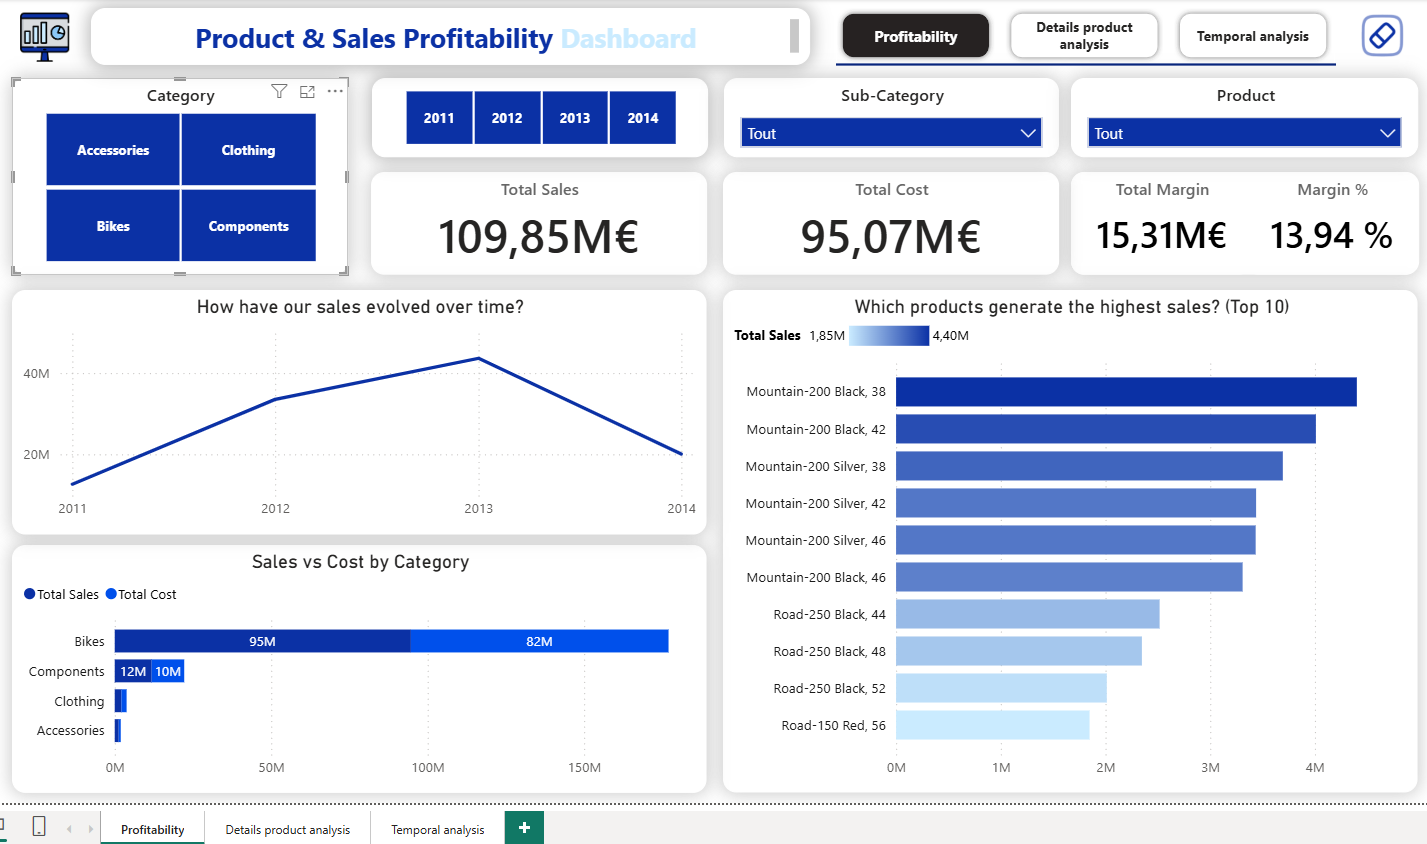

This screenshot's page, from the dashboard's own definition file:
{"tool":"powerbi","page":{"name":"Profitability","canvas":[1280,720],"ordinal":0},"visuals":[{"type":"shape","box":[959,154.7,311.2,92.4],"z":0},{"type":"card","title":"Total Sales","fields":{"Values":["ProductProfitability.Total Sales"]},"box":[332.6,154.7,300.5,92.4],"z":1000},{"type":"card","title":"Total Margin","fields":{"Values":["ProductProfitability.Total Margin"]},"box":[959.3,154.8,162.2,92.3],"z":2000},{"type":"card","title":"Margin %","fields":{"Values":["ProductProfitability.Margin %"]},"box":[1114.7,154.7,155.6,92.4],"z":3000},{"type":"slicer","title":"Category","fields":{"Values":["ProductProfitability.Category"]},"box":[10.7,71,300.5,176],"z":4000},{"type":"slicer","fields":{"Values":["ProductProfitability.OrderDate.Variation.Hiérarchie de dates.Année"]},"box":[332.8,70.9,301.1,70.9],"z":5000},{"type":"card","title":"Total Cost","fields":{"Values":["ProductProfitability.Total Cost"]},"box":[647.8,154.7,300.5,92.4],"z":6000},{"type":"barChart","title":"Which products generate the highest sales? (Top 10)","fields":{"Category":["ProductProfitability.ProductName"],"Y":["ProductProfitability.Total Sales"]},"box":[647.8,260.7,622.5,450.3],"z":7000},{"type":"barChart","title":"Sales vs Cost by Category","fields":{"Y":["ProductProfitability.Total Sales","ProductProfitability.Total Cost"],"Category":["ProductProfitability.Category Hiérarchie.Category","ProductProfitability.Category Hiérarchie.SubCategory"]},"box":[10.7,489,622.4,222.1],"z":8000},{"type":"slicer","title":"Sub-Category","fields":{"Values":["ProductProfitability.SubCategory"]},"box":[647.9,70.9,300.2,70.9],"z":9000},{"type":"slicer","title":"Product","fields":{"Values":["ProductProfitability.ProductName"]},"box":[959.3,70.9,311.4,70.9],"z":10000},{"type":"lineChart","title":"How have our sales evolved over time?","fields":{"Y":["ProductProfitability.Total Sales"],"Category":["ProductProfitability.OrderDate.Variation.Hiérarchie de dates.Année","ProductProfitability.OrderDate.Variation.Hiérarchie de dates.Mois"]},"box":[10.7,260.6,622.4,218.5],"z":11000},{"type":"textbox","box":[81.5,8.1,643.9,51],"z":12000},{"type":"pageNavigator","box":[749.1,6.9,447.1,51.3],"z":13000},{"type":"shape","box":[748.7,46.6,447.8,24.2],"z":14000},{"type":"image","box":[0,6.9,80.9,54.3],"z":15000},{"type":"image","box":[1196.4,6.8,83.6,50.6],"z":16000}]}

Visuals, with their boxes on the page's 1280x720 design canvas (x1, y1, x2, y2). These are canvas units, not pixel positions in the 1427x844 screenshot, which may show the page scaled, cropped or inside an application window:
shape: [959,155,1270,247]
"Total Sales" card: [333,155,633,247]
"Total Margin" card: [959,155,1122,247]
"Margin %" card: [1115,155,1270,247]
"Category" slicer: [11,71,311,247]
slicer - ProductProfitability.OrderDate.Variation.Hiérarchie de dates.Année: [333,71,634,142]
"Total Cost" card: [648,155,948,247]
"Which products generate the highest sales? (Top 10)" barChart: [648,261,1270,711]
"Sales vs Cost by Category" barChart: [11,489,633,711]
"Sub-Category" slicer: [648,71,948,142]
"Product" slicer: [959,71,1271,142]
"How have our sales evolved over time?" lineChart: [11,261,633,479]
textbox: [82,8,725,59]
pageNavigator: [749,7,1196,58]
shape: [749,47,1196,71]
image: [0,7,81,61]
image: [1196,7,1280,57]
